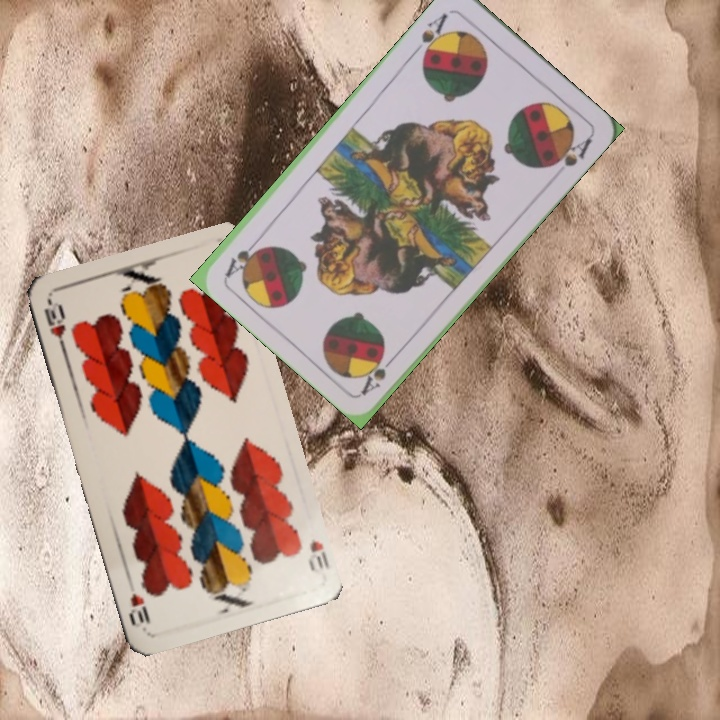H10: (40, 296, 69, 354), (304, 535, 331, 574)
SA: (409, 9, 451, 62), (357, 348, 401, 398)
